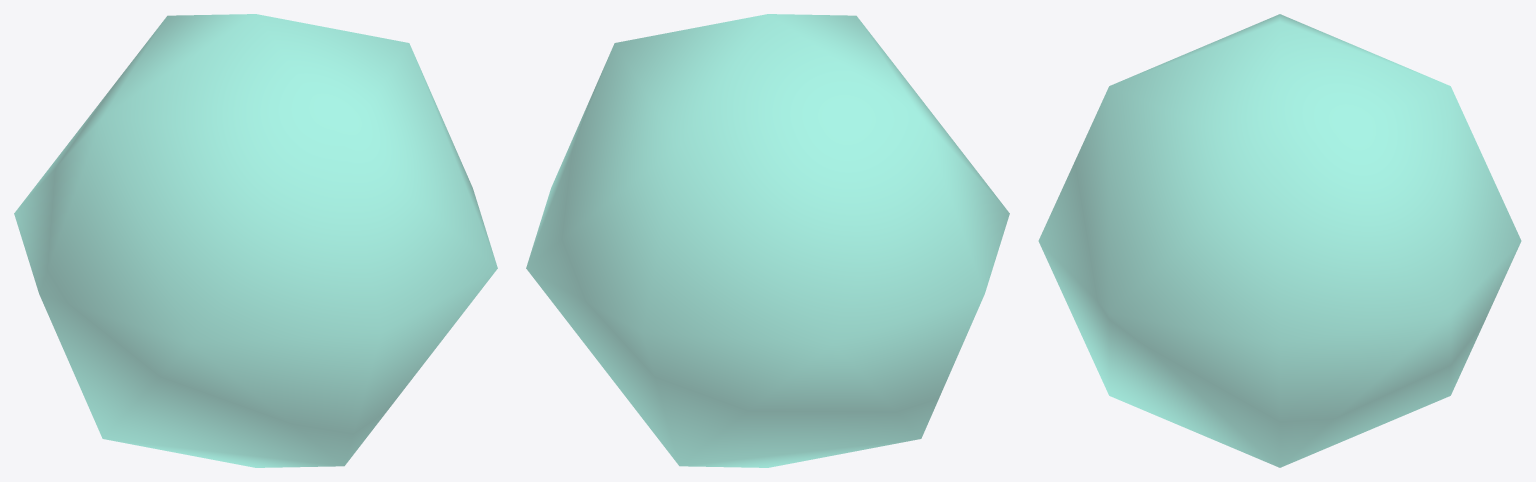
File: media-bead.glb
3 renders of one model, left to right at view 1: azimuth 30°, elevation 25°; view 2: azimuth 150°, elevation 25°; view 3: azimuth 270°, elevation 25°, orthographic. The views are drawn at different scales.
Parts seen in each view (by area): view 1: pickup_media_bead; view 2: pickup_media_bead; view 3: pickup_media_bead.
Boxes of the visible parts, bbox=[...] form: pickup_media_bead: bbox=[14, 14, 497, 467]; pickup_media_bead: bbox=[526, 14, 1009, 467]; pickup_media_bead: bbox=[1038, 14, 1521, 467].
Size of the model in its own units: 1.16 by 1.16 by 1.16.
